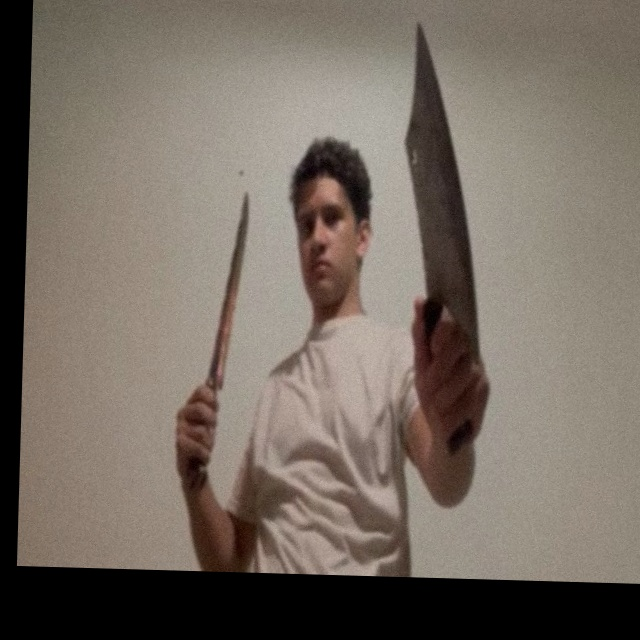Sharp-Object: (398, 22, 490, 357), (210, 194, 249, 386)
